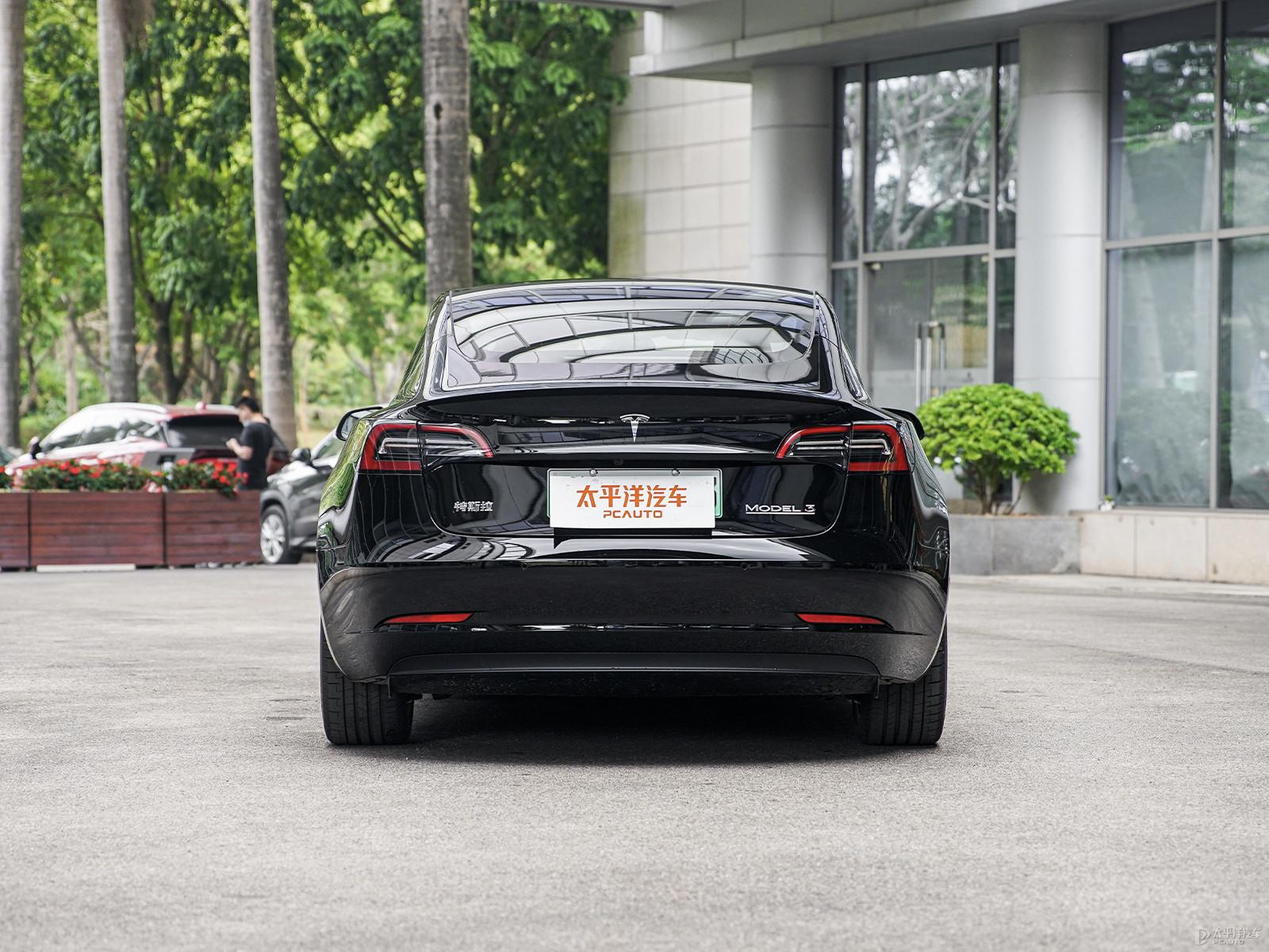Tesla: (619, 413, 650, 442)
